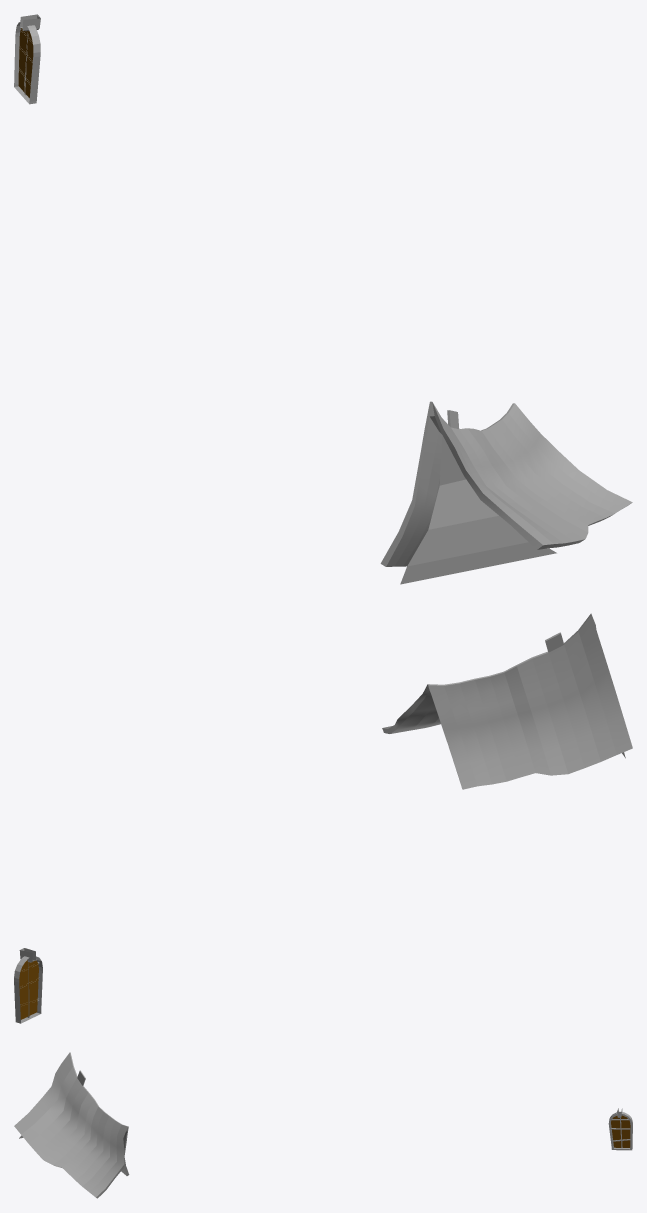
Rendered from roof tirl.fbx.
3 views of the same model, one above another, from view 1: azimuth 30°, elevation 25°; view 2: azimuth 150°, elevation 25°; view 3: azimuth 270°, elevation 25° (orthographic). The views are drawn at different scales.
Visible parts, largest first — view 1: window7; view 2: window7; view 3: window7.
Part boxes in pixels (<box>): window7: <box>14,14,632,584</box>; window7: <box>14,613,632,1023</box>; window7: <box>14,1052,632,1198</box>.
Bounding box in the file's own units: 0.334 × 0.2246 × 1.27.
